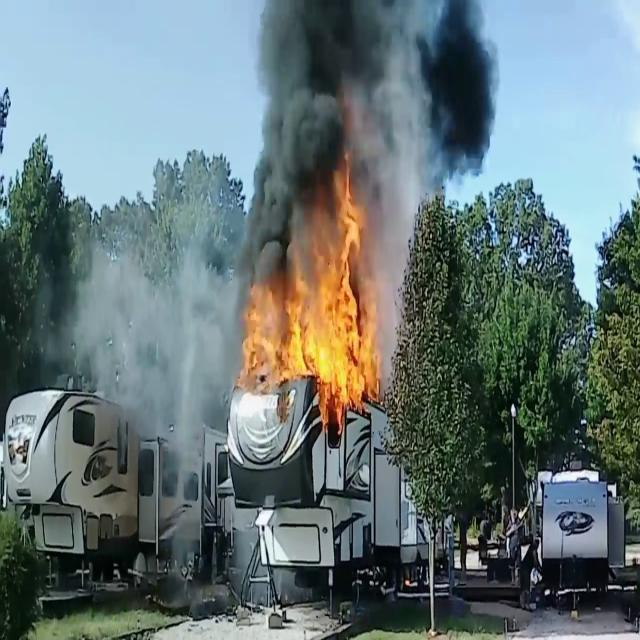Fire: (238, 176, 384, 424)
Smoke: (64, 202, 246, 477), (239, 0, 403, 262), (407, 0, 503, 203)
